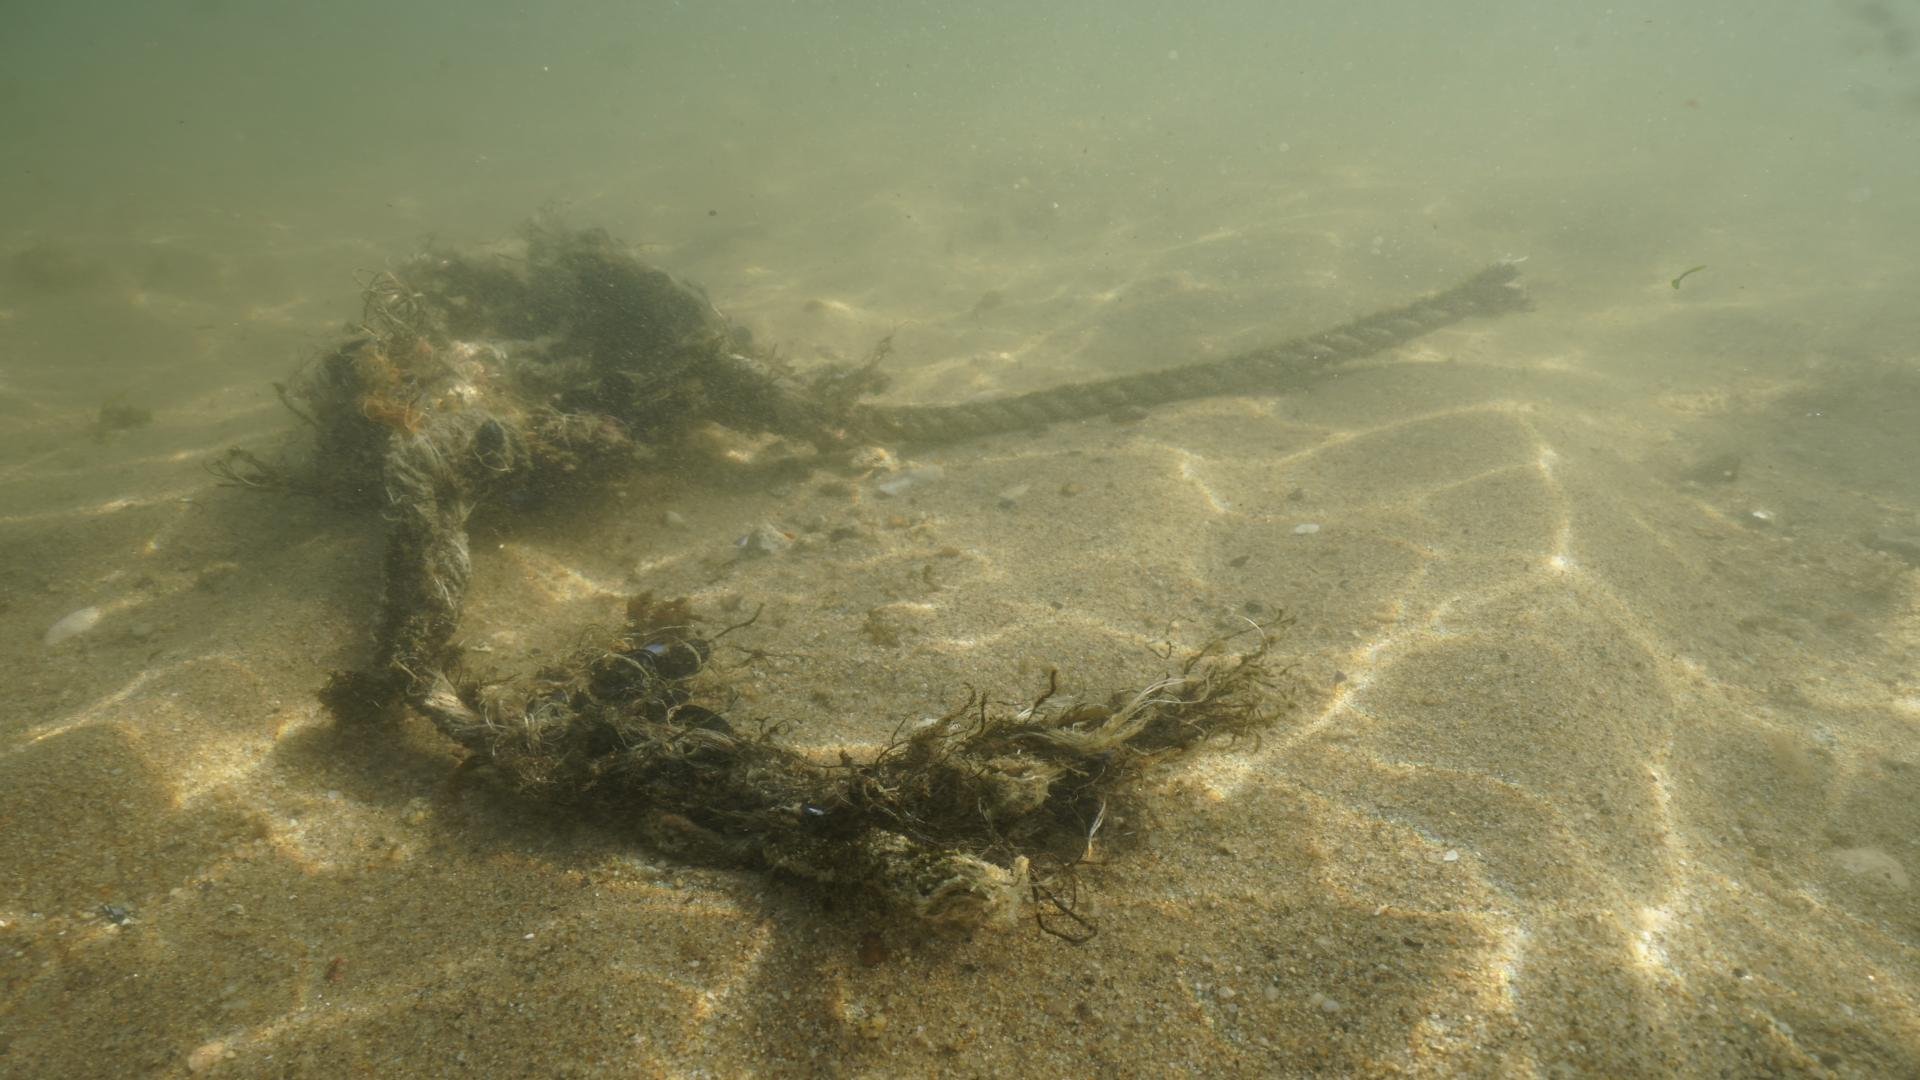bundle of ropes: (825, 273, 1480, 444)
